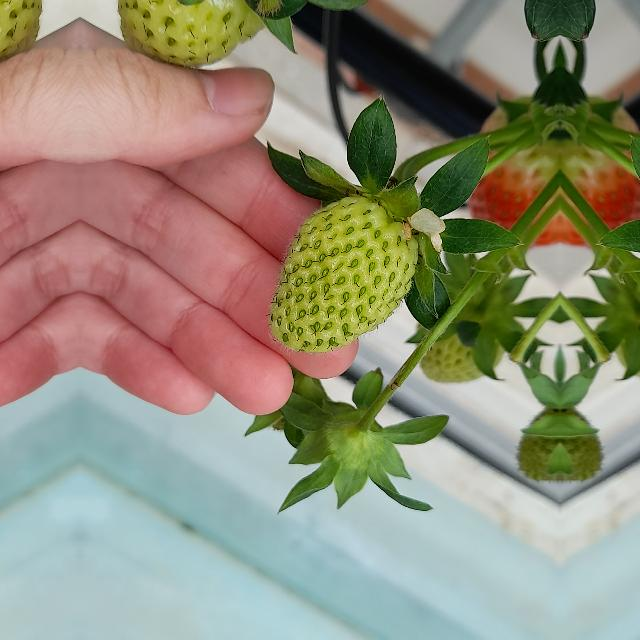Health_100: (465, 112, 559, 248), (561, 112, 640, 247)
Health_25: (268, 195, 418, 352), (417, 264, 511, 381), (609, 263, 640, 380)
